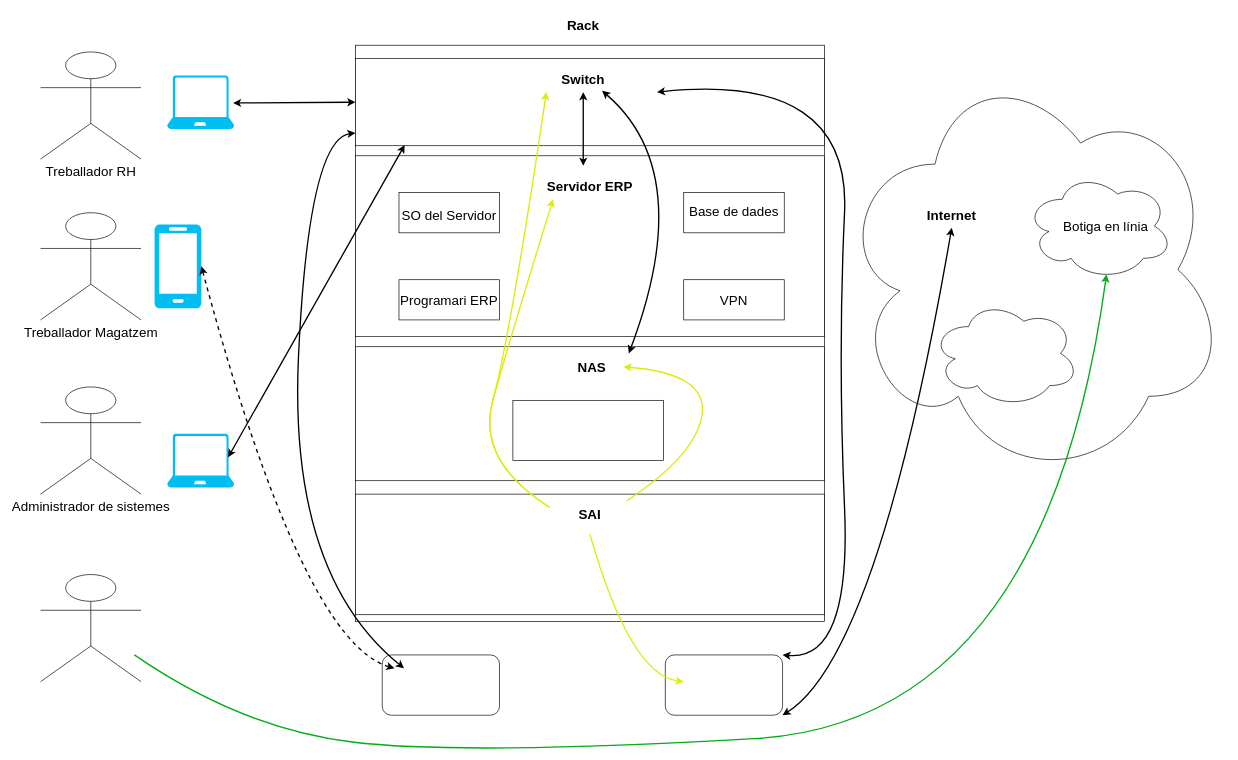
Image size: 1238x760. Some labels were removed from this diagram. The centre of each missing label's shape, as x and y in pixels:
Access Point: the point at 440,684
Client: the point at 90,628
Emmagatzematge extern al núvol: the point at 1005,353
Router: the point at 724,684
Servei de compartició de fitxers: the point at 588,430
